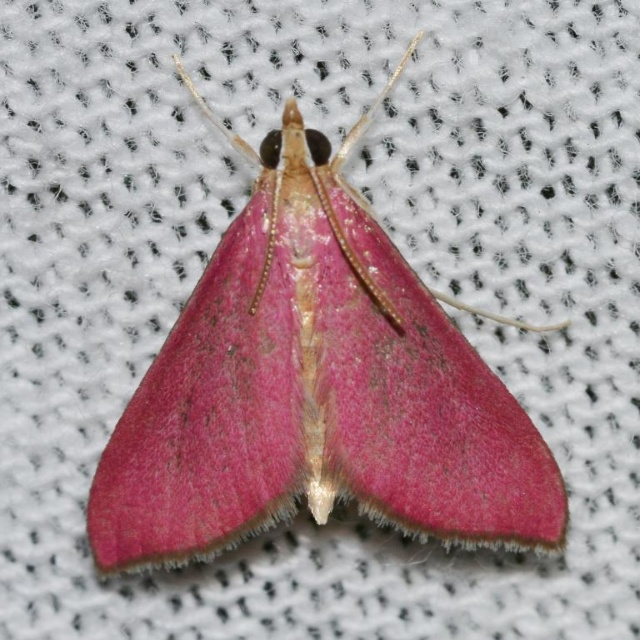Moths and butterflies: (84, 27, 571, 582)
